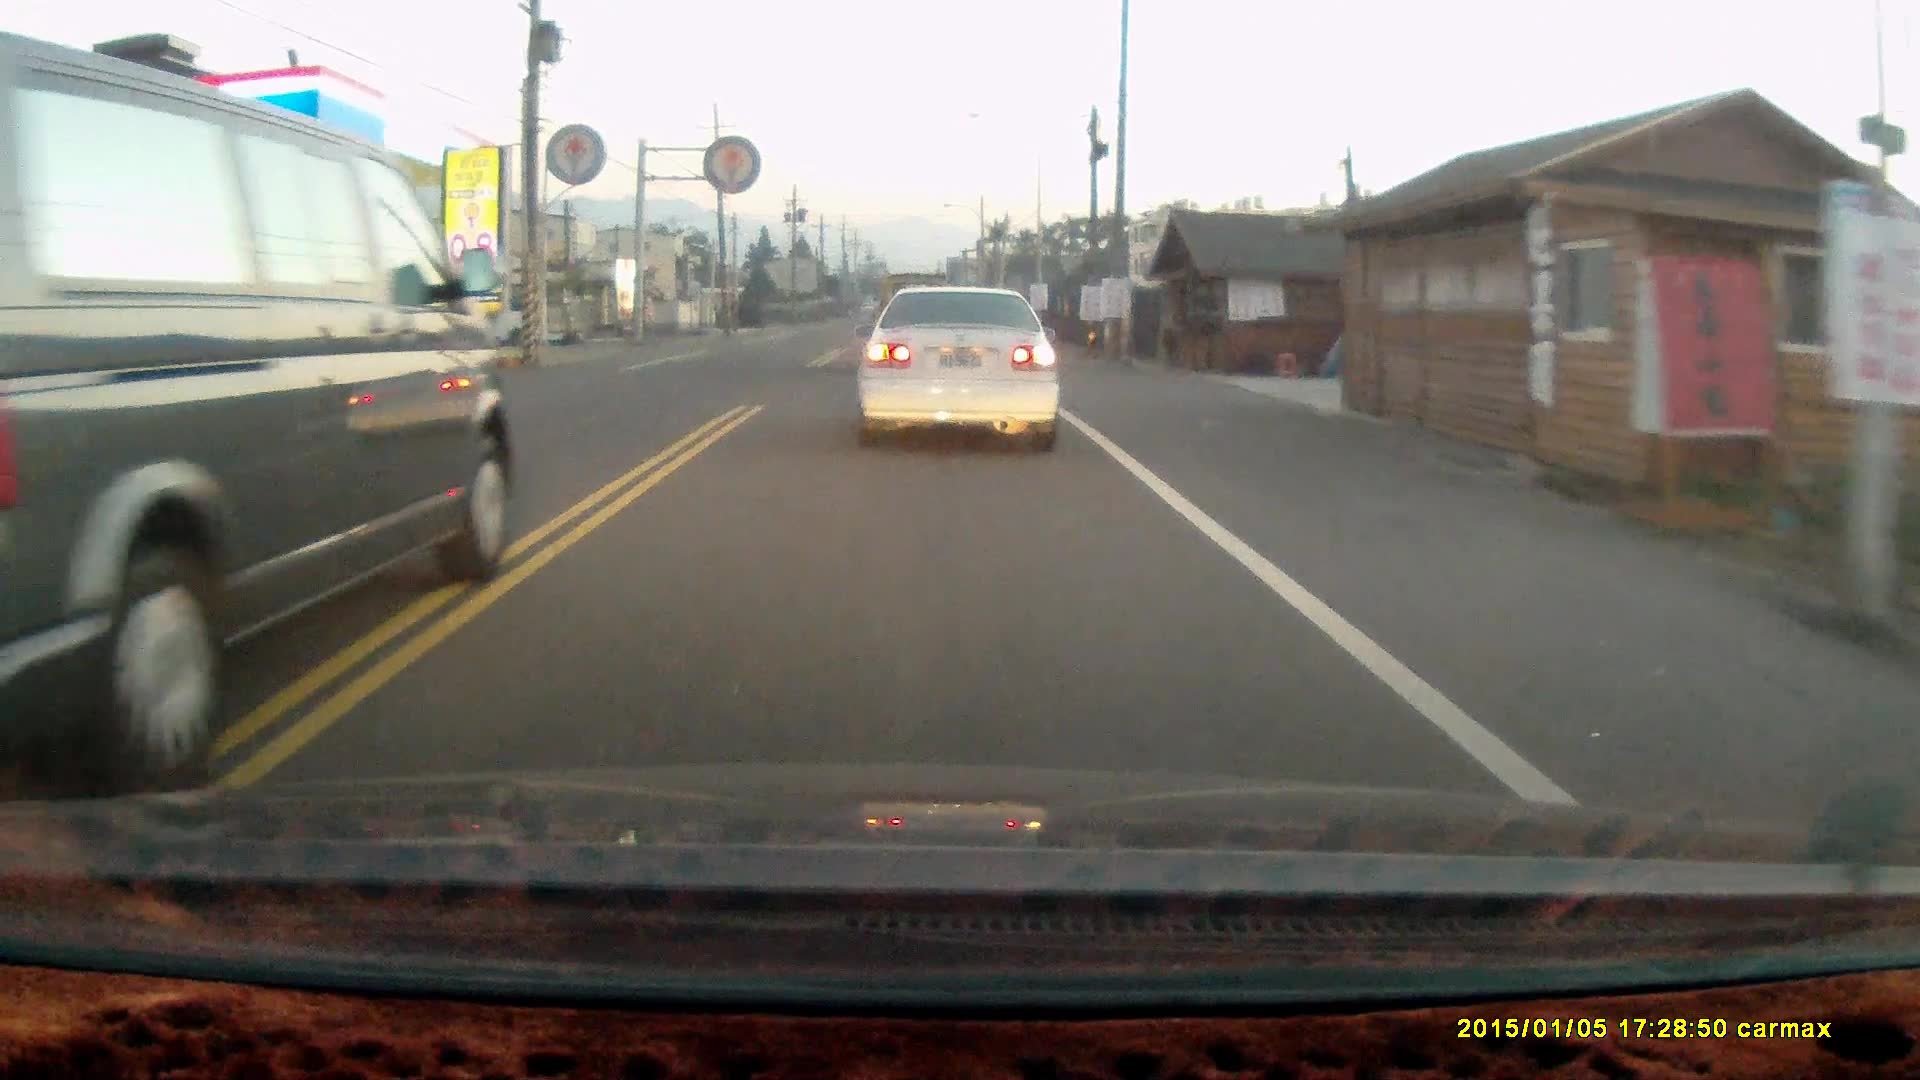vehicle: (1, 44, 516, 773), (856, 280, 1065, 458)
